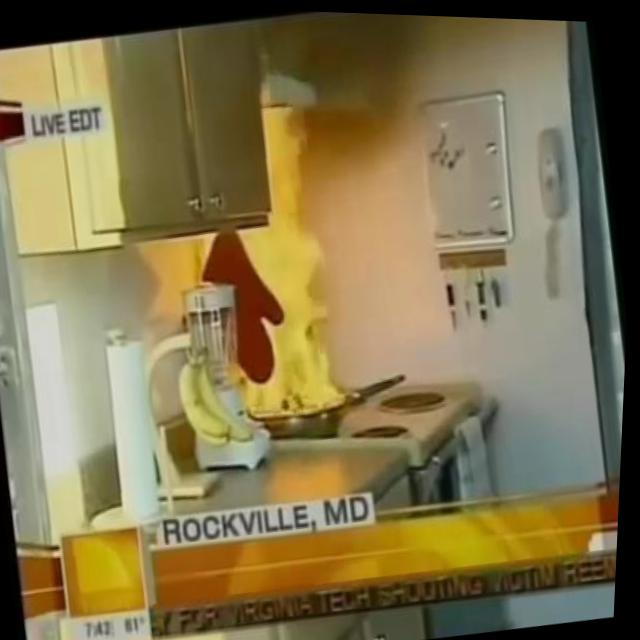fire: (182, 86, 361, 422)
